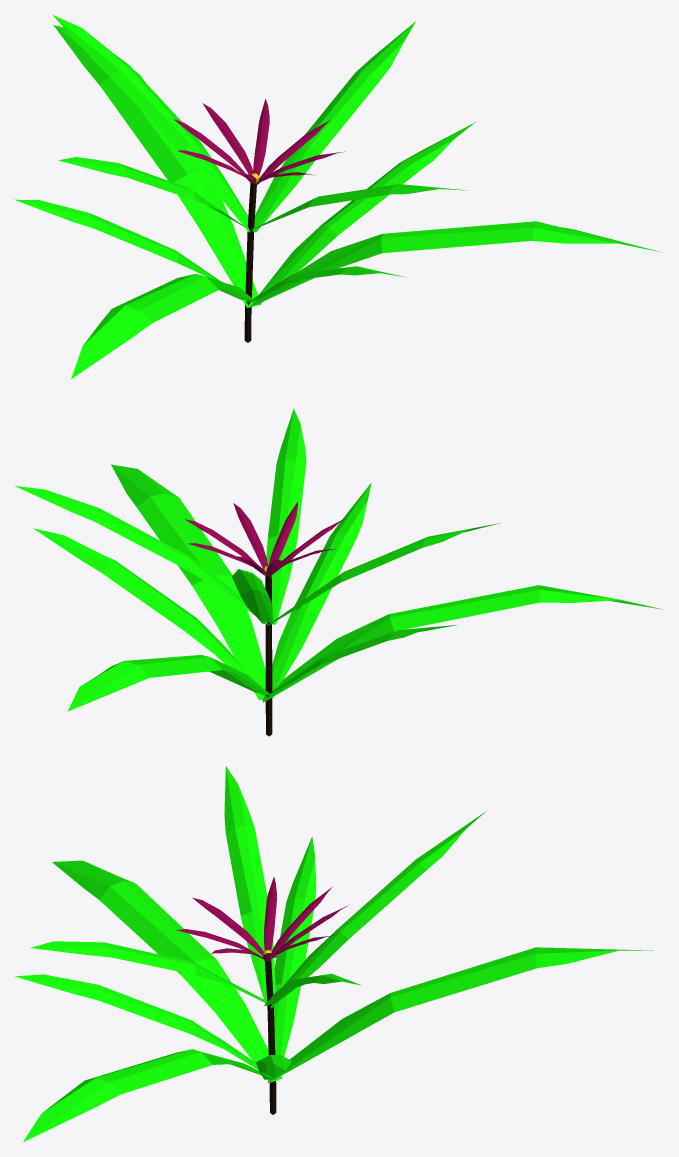
File: flower1.fbx
3 views of the same model, one above another, from view 1: azimuth 30°, elevation 25°; view 2: azimuth 150°, elevation 25°; view 3: azimuth 270°, elevation 25° (orthographic). The views are drawn at different scales.
Parts seen in each view (by area): view 1: Plane291; view 2: Plane291; view 3: Plane291.
Part boxes in pixels (x1,y1,x2,y2): Plane291: [14, 14, 662, 379]; Plane291: [15, 408, 661, 736]; Plane291: [14, 766, 653, 1141].
Bounding box in the file's own units: 10.07 × 4.45 × 10.02.
